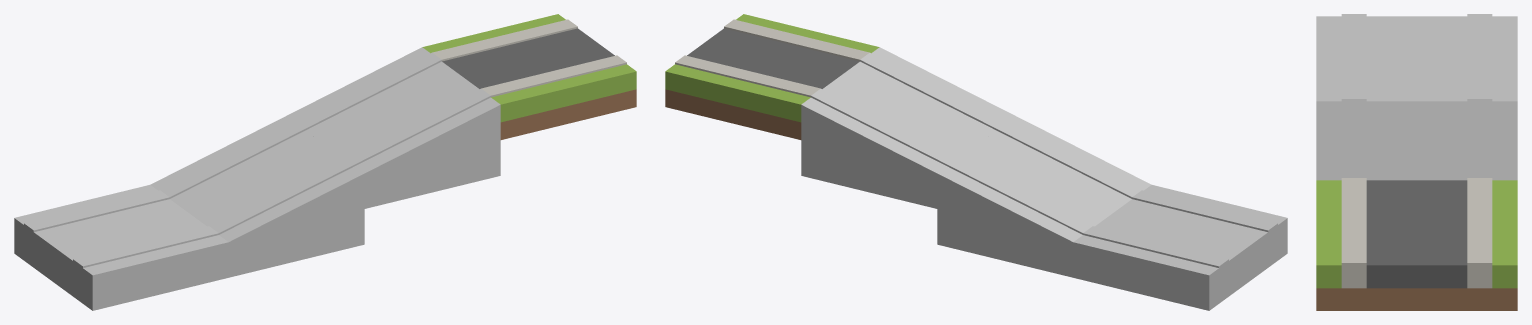
The model's file is test_slope_and_flat.dae.
The picture shows the model from 3 angles, left to right: view 1: azimuth 30°, elevation 25°; view 2: azimuth 150°, elevation 25°; view 3: azimuth 270°, elevation 25°; orthographic projection. The views are drawn at different scales.
Visible parts, largest first — view 1: Road Hill_col, Road Hill.001_col, Road Straight_col, Road Straight.001_col; view 2: Road Hill_col, Road Hill.001_col, Road Straight_col, Road Straight.001_col; view 3: Road Straight.001_col, Road Straight_col, Road Hill_col, Road Hill.001_col.
Boxes of the visible parts, x1=… form: Road Hill_col: x1=286, y1=47, x2=500, y2=208; Road Hill.001_col: x1=150, y1=116, x2=364, y2=277; Road Straight_col: x1=14, y1=185, x2=228, y2=310; Road Straight.001_col: x1=422, y1=14, x2=636, y2=139; Road Hill_col: x1=801, y1=47, x2=1015, y2=208; Road Hill.001_col: x1=937, y1=116, x2=1151, y2=277; Road Straight_col: x1=1073, y1=185, x2=1287, y2=310; Road Straight.001_col: x1=665, y1=14, x2=879, y2=139; Road Straight.001_col: x1=1316, y1=178, x2=1517, y2=310; Road Straight_col: x1=1316, y1=14, x2=1517, y2=101; Road Hill_col: x1=1316, y1=138, x2=1517, y2=180; Road Hill.001_col: x1=1316, y1=99, x2=1517, y2=140.
Bounding box in the file's own units: 32 × 8 × 6.1.
